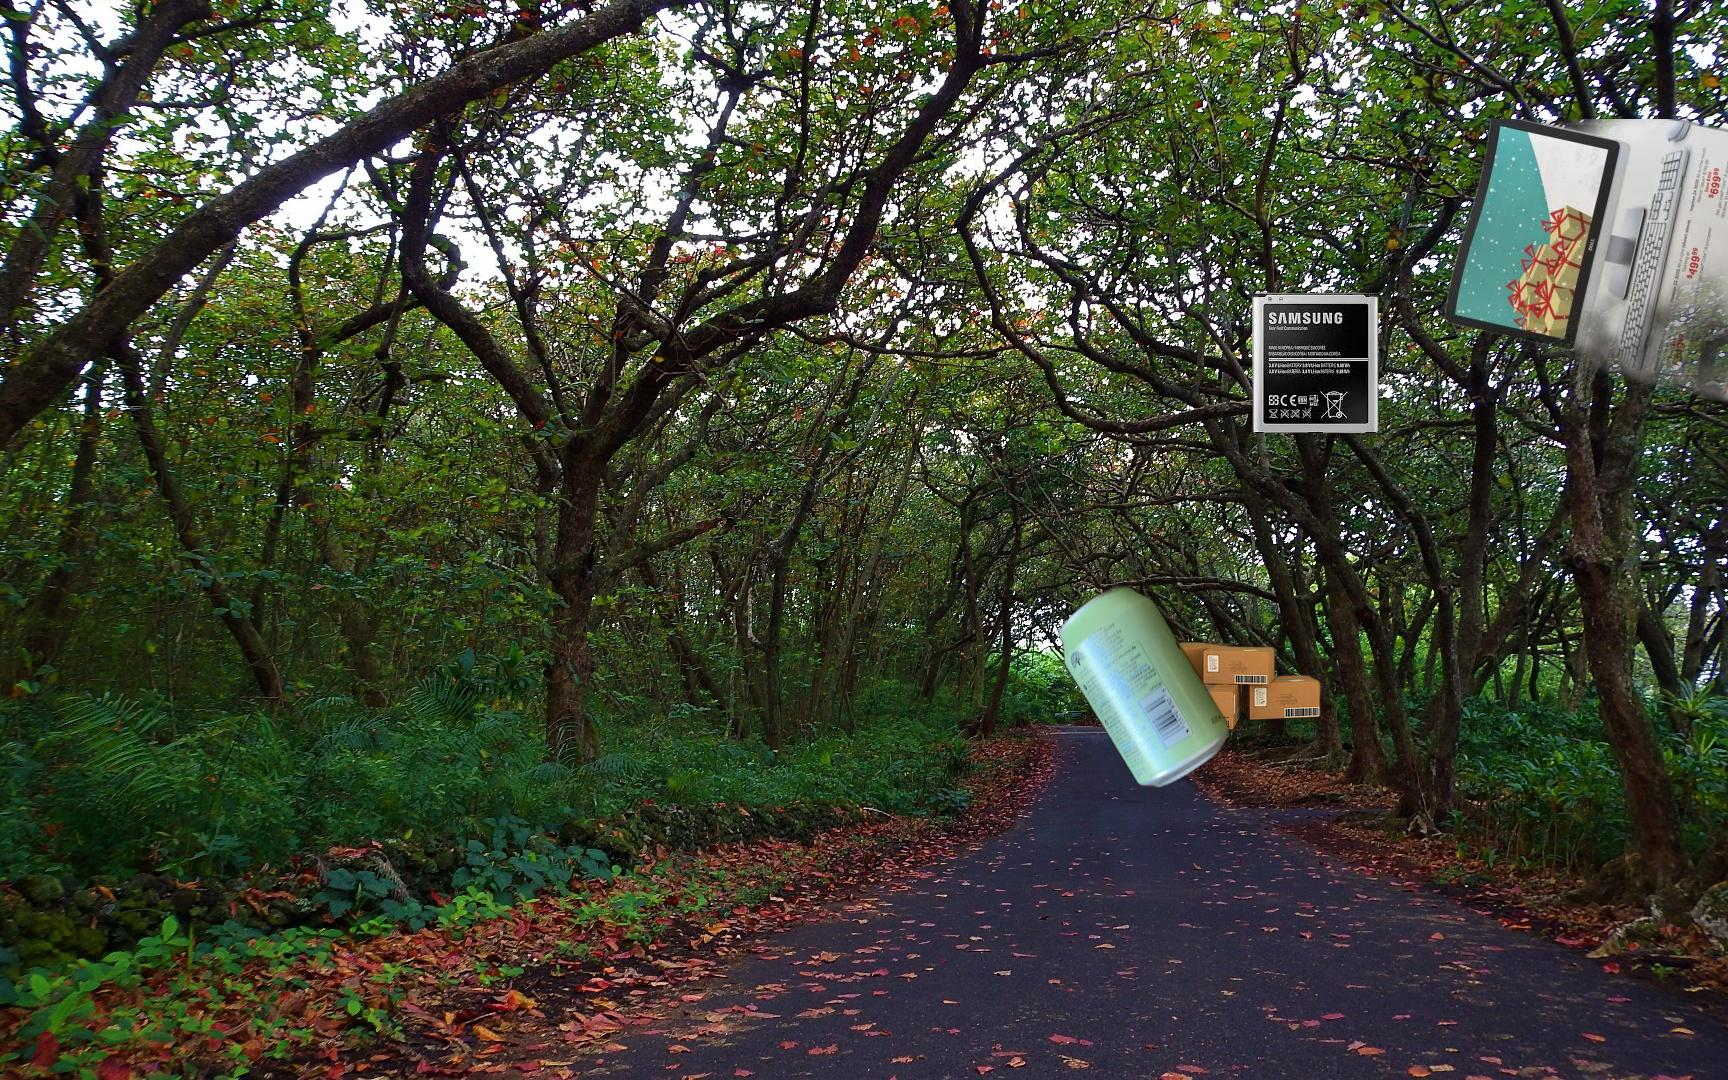battery: (1249, 290, 1382, 437)
metal-cans: (1054, 579, 1234, 794)
paper: (1359, 119, 1728, 503)
trashbox-cardboard: (1625, 666, 1728, 1050), (1111, 640, 1326, 753)
